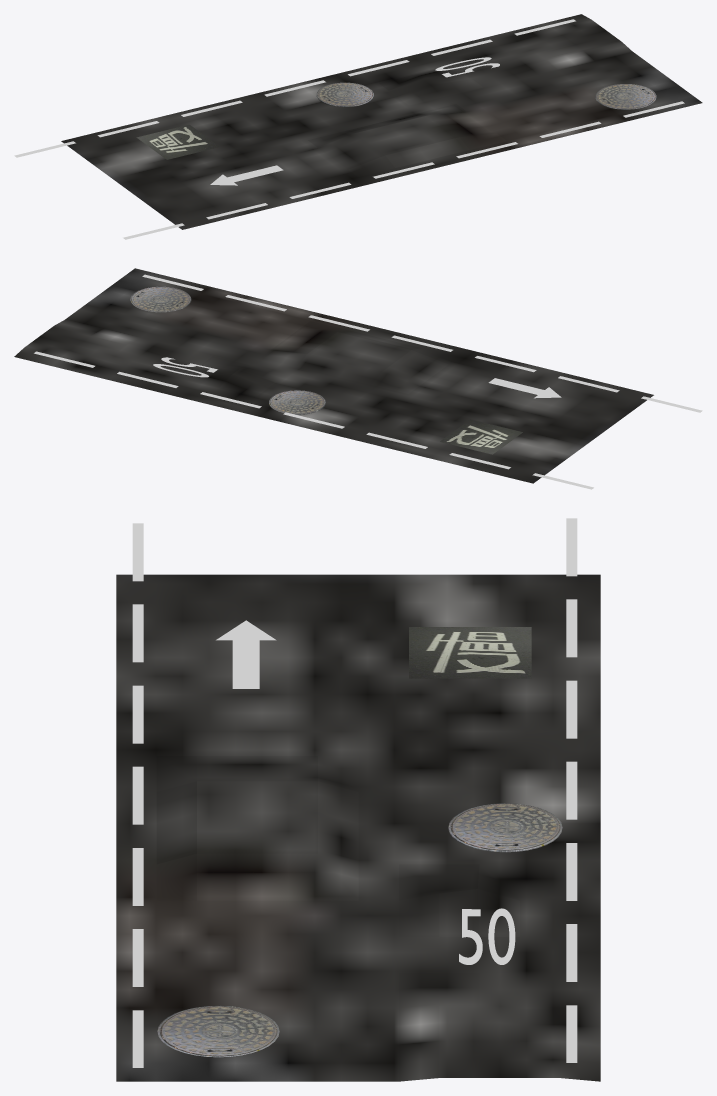
Rendered from ROAD.fbx.
The picture shows the model from 3 angles, top to bottom: view 1: azimuth 30°, elevation 25°; view 2: azimuth 150°, elevation 25°; view 3: azimuth 270°, elevation 25°; orthographic projection. The views are drawn at different scales.
Parts seen in each view (by area): view 1: ROAD, SLOW, WHITEROAD2, WHITE LINE, WATERCAP.001, WATERCAP, ARROW, 50; view 2: ROAD, SLOW, WHITEROAD2, WHITE LINE, WATERCAP.001, WATERCAP, ARROW, 50; view 3: ROAD, SLOW, WATERCAP.001, WHITE LINE, WHITEROAD2, WATERCAP, ARROW, 50.
Part boxes in pixels (x1=…): ROAD: x1=61, y1=14, x2=702, y2=229; SLOW: x1=136, y1=124, x2=219, y2=159; WHITEROAD2: x1=123, y1=101, x2=684, y2=239; WHITE LINE: x1=14, y1=19, x2=575, y2=157; WATERCAP.001: x1=595, y1=84, x2=656, y2=109; WATERCAP: x1=316, y1=82, x2=373, y2=107; ARROW: x1=210, y1=165, x2=283, y2=185; 50: x1=435, y1=57, x2=499, y2=77; ROAD: x1=14, y1=268, x2=653, y2=483; SLOW: x1=440, y1=419, x2=522, y2=454; WHITEROAD2: x1=142, y1=274, x2=702, y2=412; WHITE LINE: x1=34, y1=351, x2=593, y2=489; WATERCAP.001: x1=130, y1=286, x2=191, y2=312; WATERCAP: x1=269, y1=390, x2=325, y2=414; ARROW: x1=488, y1=378, x2=561, y2=398; 50: x1=153, y1=357, x2=217, y2=377; ROAD: x1=116, y1=574, x2=600, y2=1081; SLOW: x1=409, y1=627, x2=531, y2=678; WATERCAP.001: x1=157, y1=1005, x2=279, y2=1057; WHITE LINE: x1=566, y1=518, x2=577, y2=1062; WHITEROAD2: x1=132, y1=523, x2=143, y2=1067; WATERCAP: x1=448, y1=803, x2=562, y2=852; ARROW: x1=216, y1=620, x2=276, y2=688; 50: x1=459, y1=908, x2=515, y2=964.
Bounding box in the file's own units: 2155 × 47.71 × 790.
7 materials, 4 textured.
